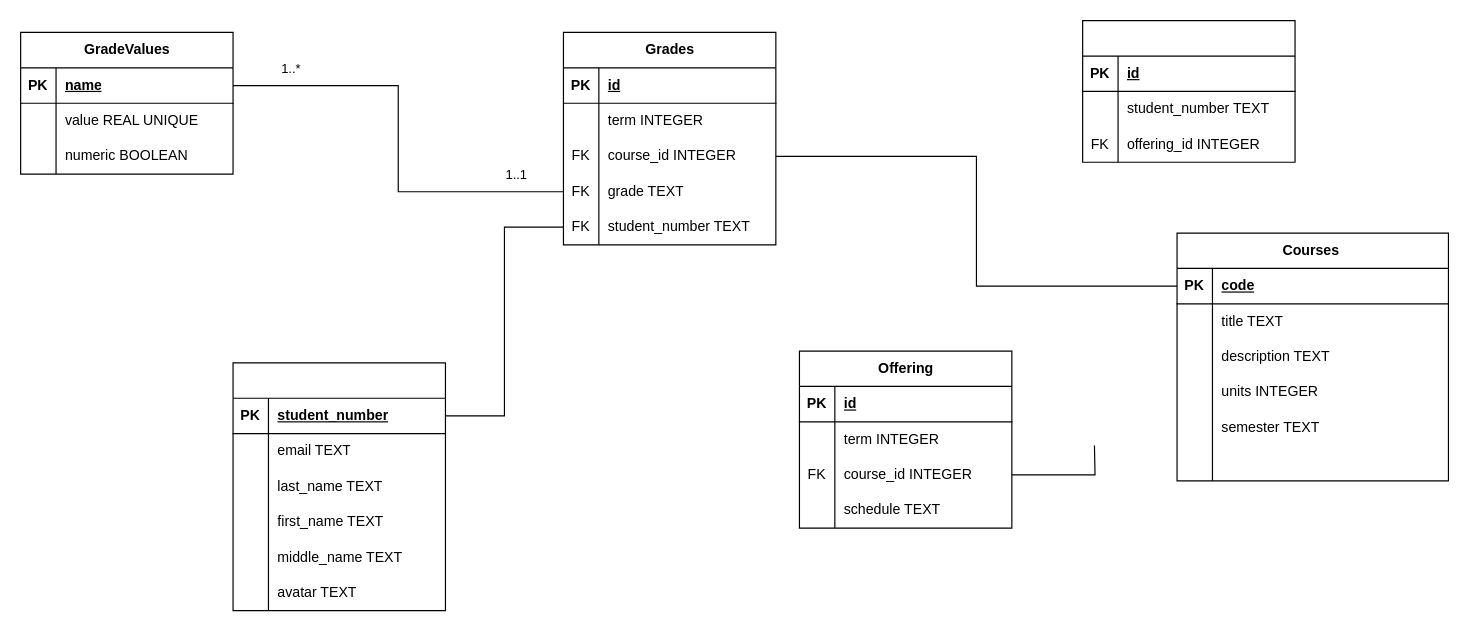
Image size: 1469x631. Some labels were removed from this diagram. The box of each missing label's shape, as (x1, y1, x2, y2) in pixels:
Enlistments: (1081, 19, 1295, 162)
Students: (232, 362, 445, 611)
